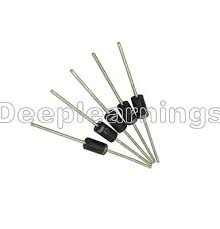diode: (61, 123, 111, 171)
